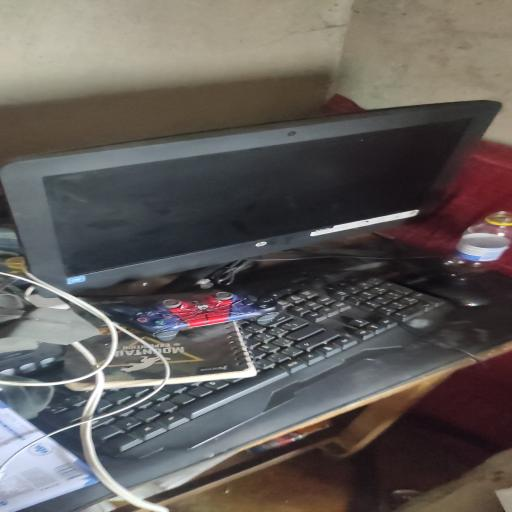ControlPlay4: (104, 291, 275, 340)
